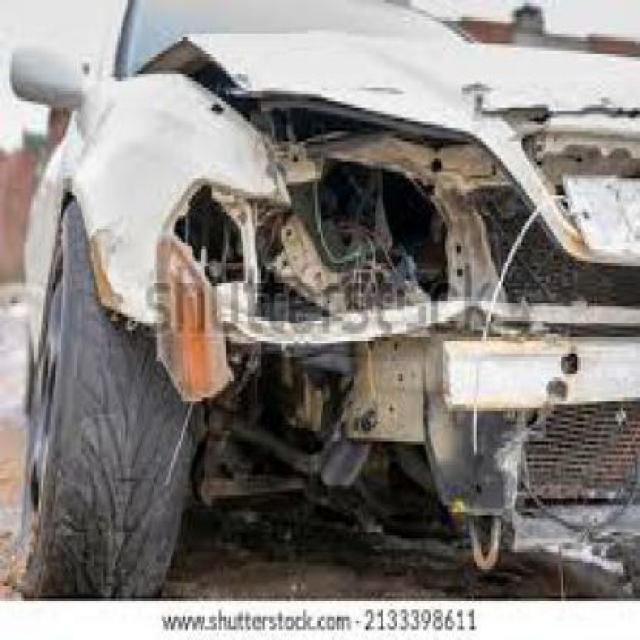damaged-hood: (144, 33, 638, 149)
